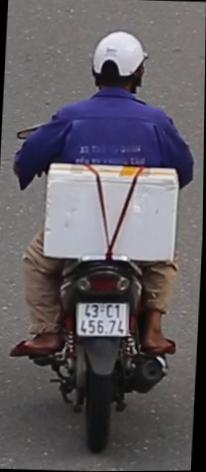LP: (76, 298, 133, 341)
helmet: (89, 27, 150, 99)
